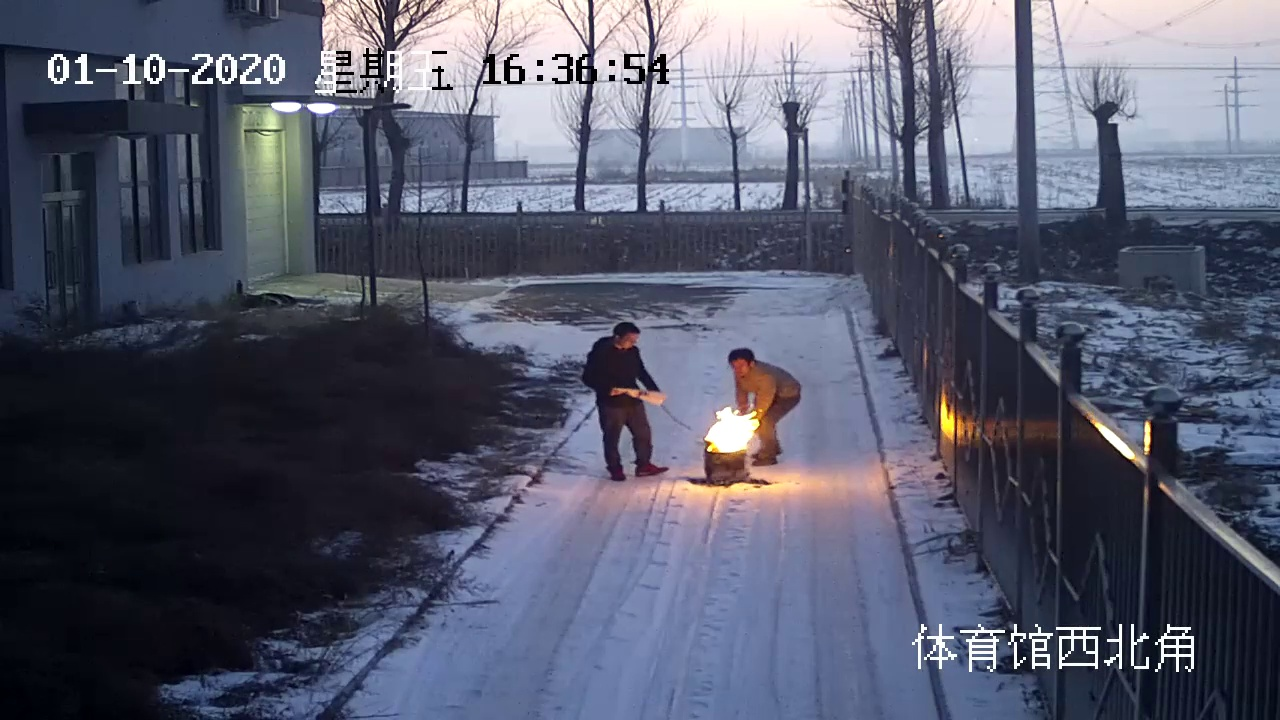fire: (701, 407, 756, 455)
